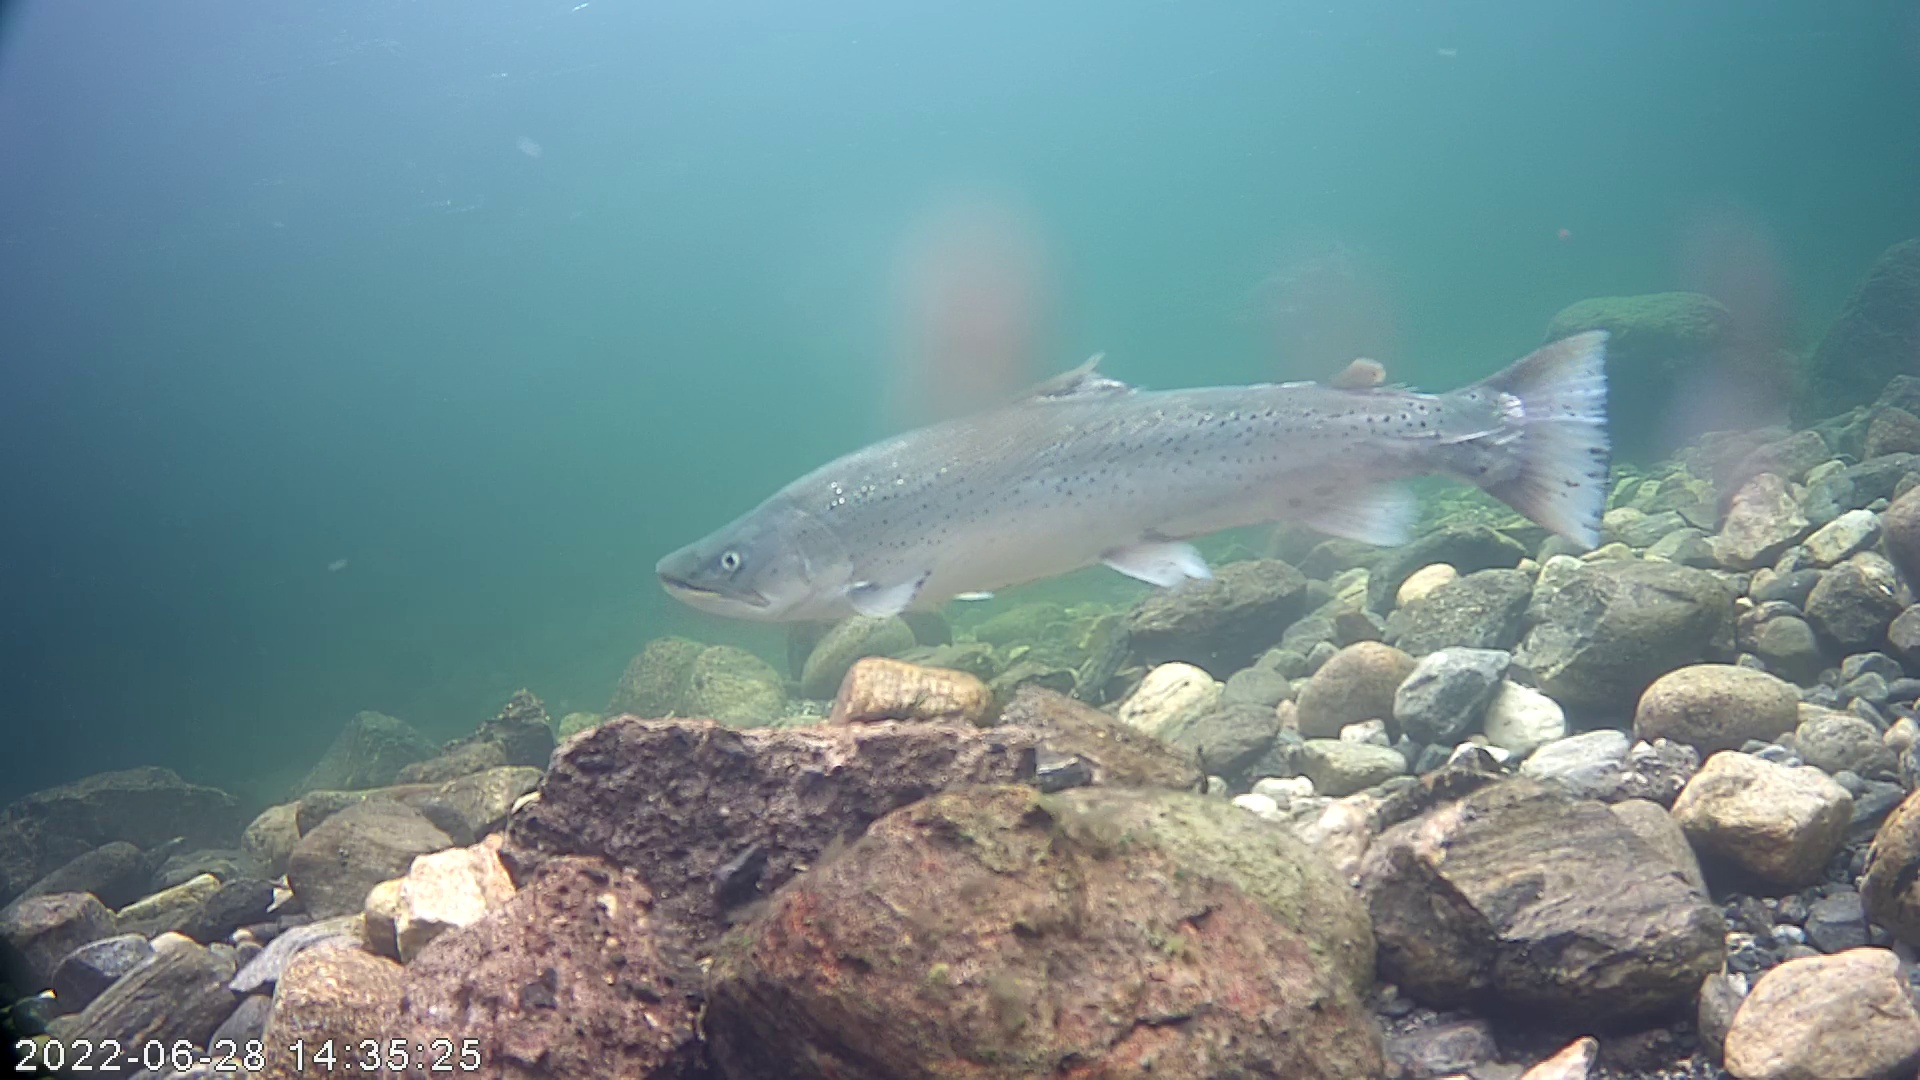salmon: (669, 222, 1651, 650)
